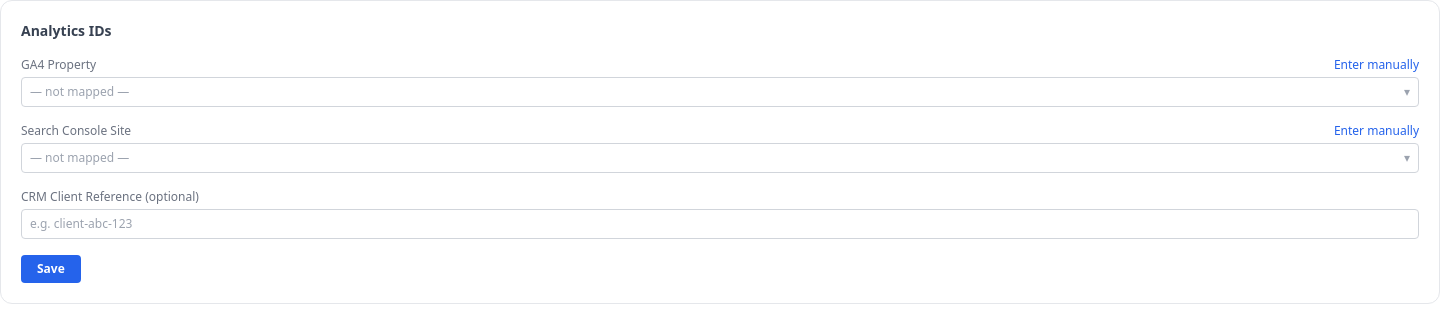
AnalyticsIdsPanel searchable selects › filters GA4 options by typed query (name or id)
Note: Two "not mapped" triggers (GA4 first, GSC second). Open the GA4 one.
Click the text "— not mapped —" below "GA4 Property": (80, 92) [30,84,129,100]
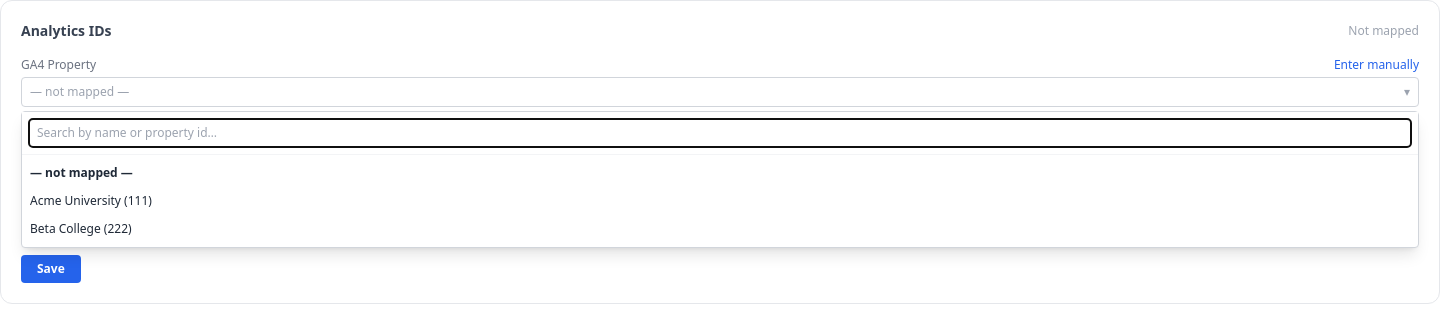
Result: the button "Acme University (111)" is shown at [22,187,1418,215]
Result: the button "Beta College (222)" is shown at [22,215,1418,243]
Note: Typing filters the list.
In the field with placeholder "Search by name or property id…": (720, 133) [28,118,1412,148], type "beta"
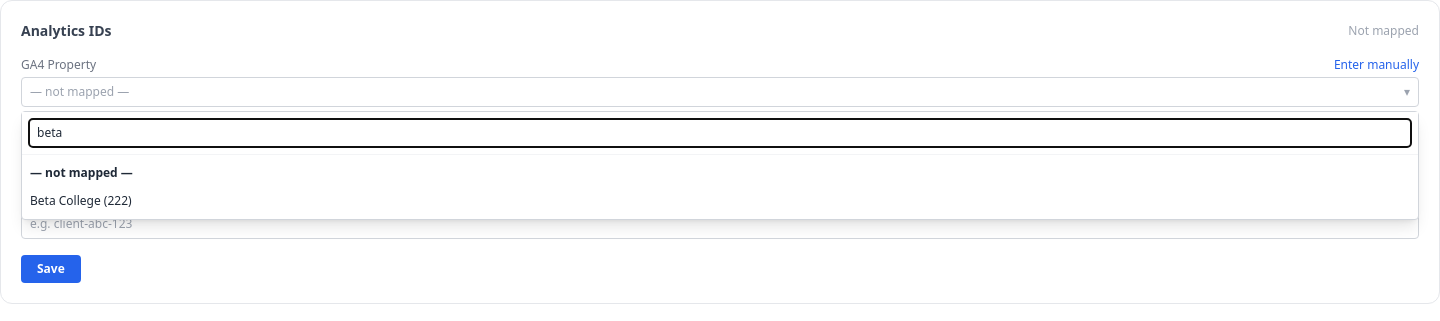
Result: the button "Beta College (222)" is shown at [22,187,1418,215]
Result: the button "Acme University (111)" is gone
Note: Filtering by numeric id also works.
Replace the text in the field with placeholder "Search by name or property id…" with "111": (720, 133) [28,118,1412,148]
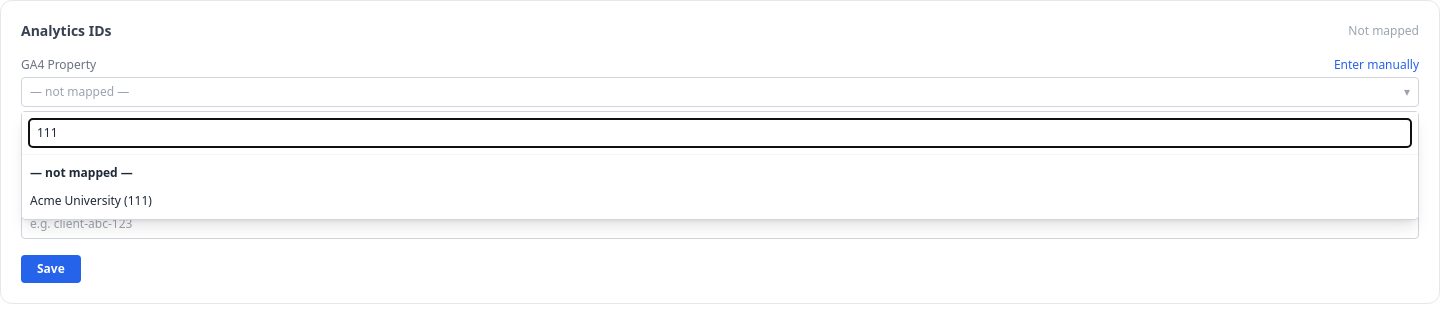
Result: the button "Acme University (111)" is shown at [22,187,1418,215]
Result: the button "Beta College (222)" is gone
Note: No-match state.
Replace the text in the field with placeholder "Search by name or property id…" with "zzz": (720, 133) [28,118,1412,148]
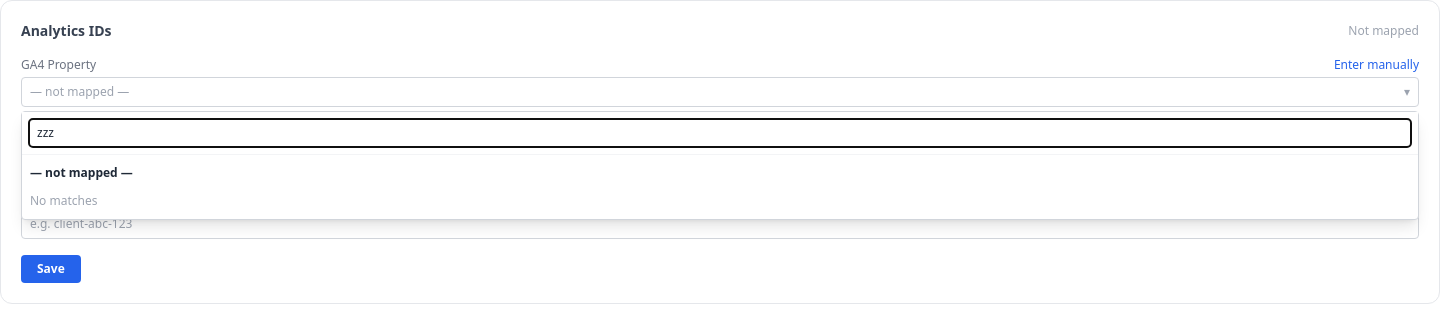
Result: the list item "No matches" is shown at [30,192,98,209]
